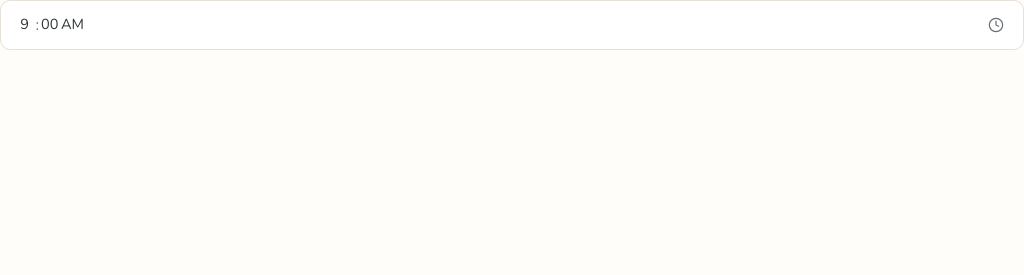
it: TimePicker — dropdown › clicking the clock icon while open closes the popover
Click the button named "open start picker".
click(996, 25)  # box 984,13 -> 1008,37
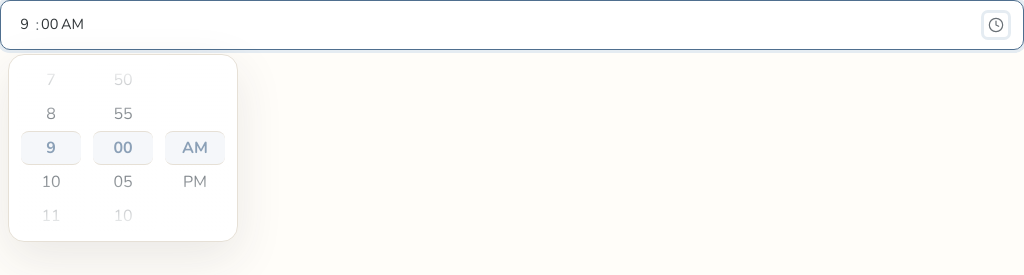
Check: the list named "Hour" is shown, box 17,63 -> 85,233
Click the button named "open start picker".
click(996, 25)  # box 984,13 -> 1008,37
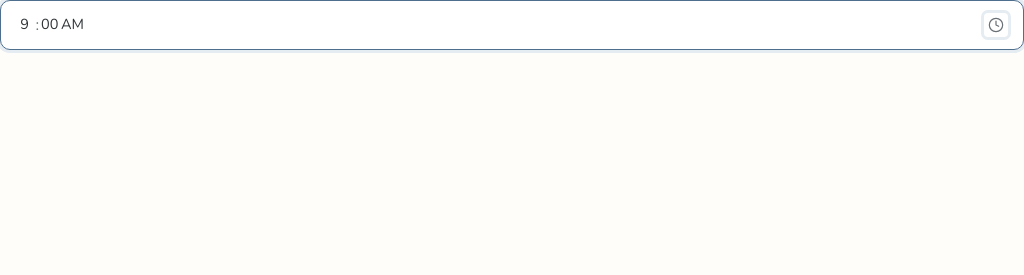
Check: the list "Hour" is gone
